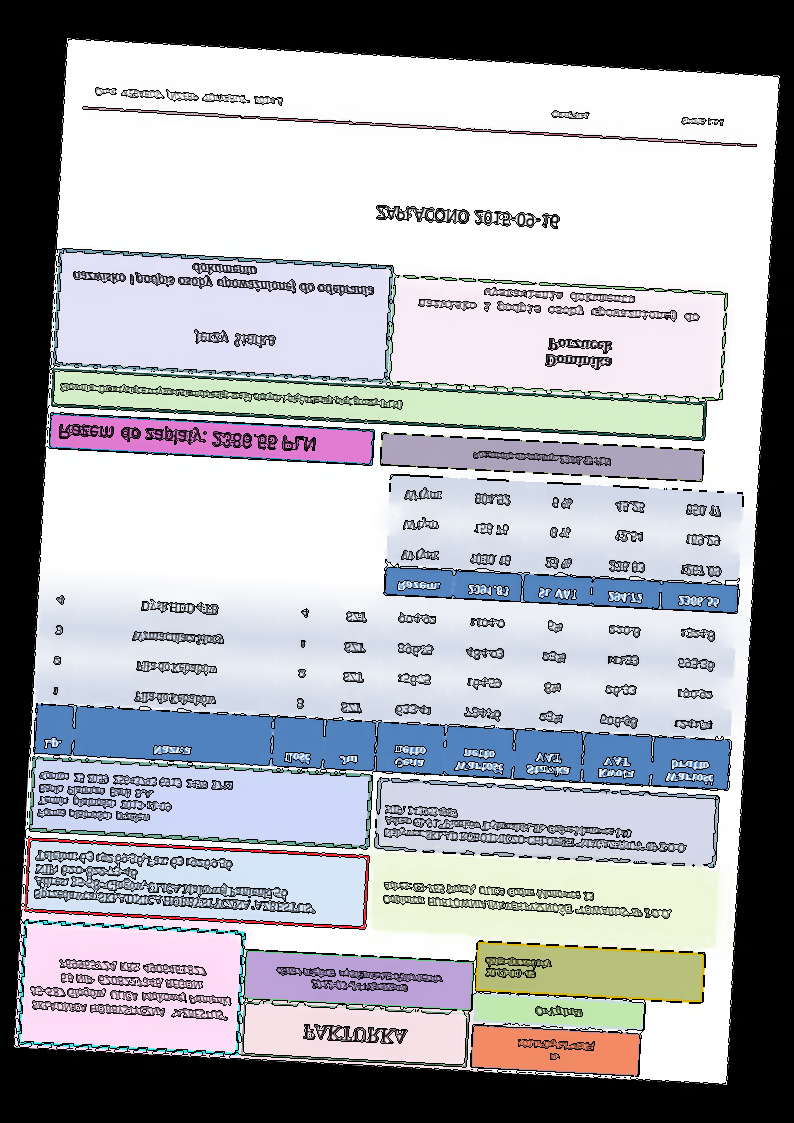Table: (32, 580, 739, 793), (382, 472, 745, 617)
TextBox: (30, 845, 322, 919), (381, 802, 691, 858), (25, 954, 236, 1025), (71, 255, 378, 300), (380, 877, 674, 922), (35, 767, 237, 832), (415, 282, 704, 327), (58, 378, 406, 413), (56, 421, 317, 456), (272, 963, 445, 999), (373, 203, 564, 233), (93, 84, 287, 110), (548, 107, 728, 131), (470, 447, 614, 470), (541, 333, 618, 374), (300, 1021, 408, 1048), (512, 1035, 597, 1066), (188, 326, 279, 353), (482, 953, 553, 985), (532, 1003, 585, 1023)
